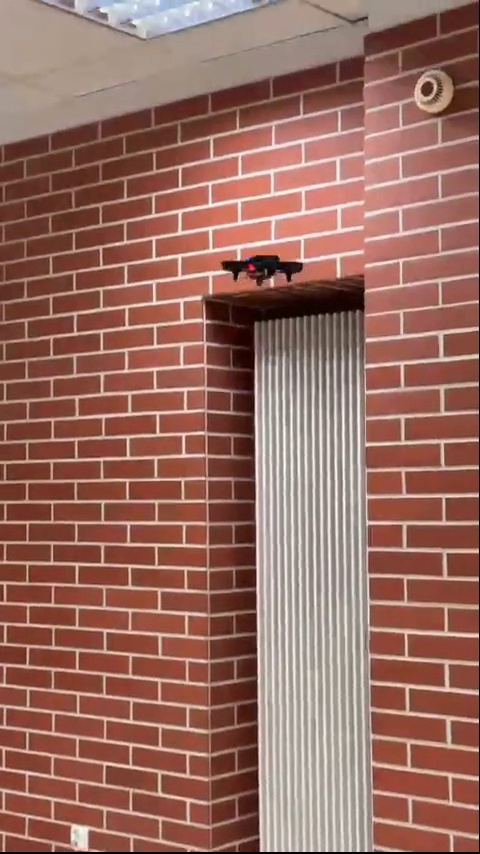drone: (226, 254, 308, 289)
